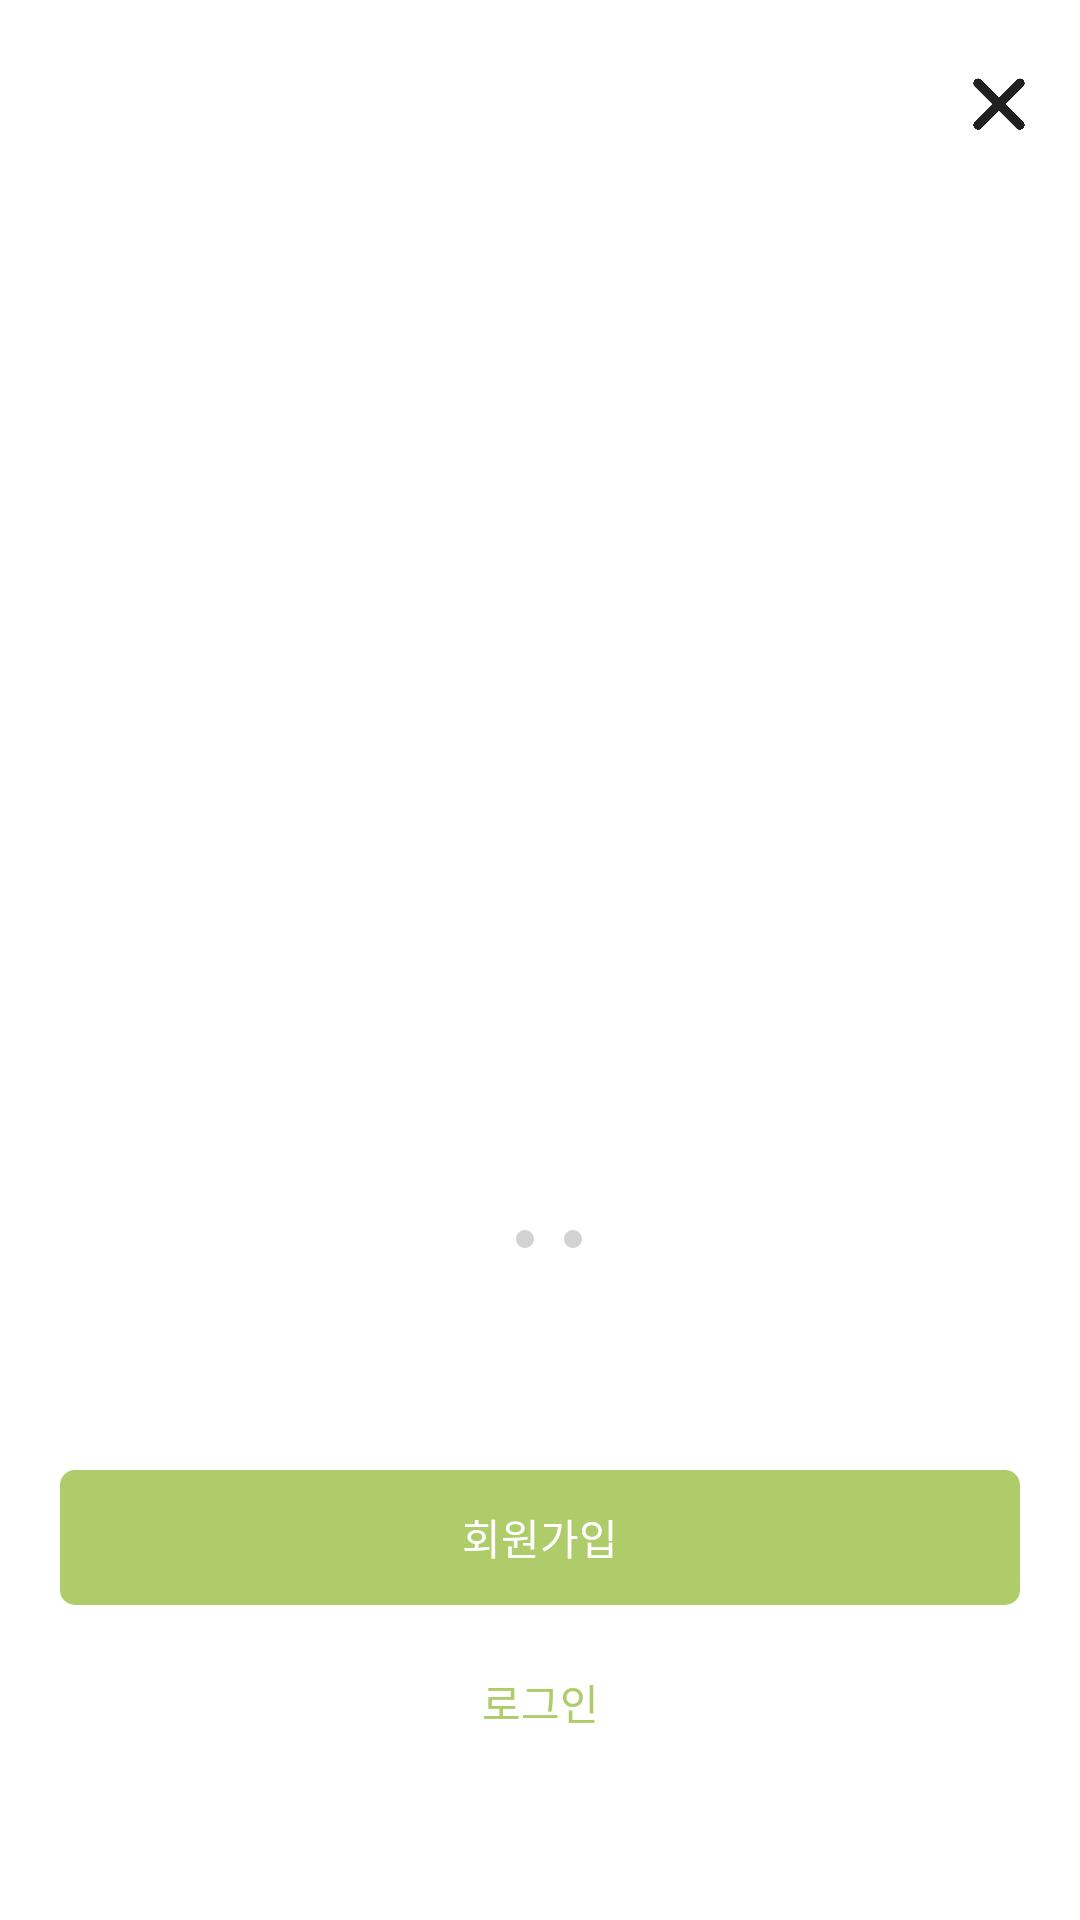

Icons on this 1080w x 1920h Android screen, each with the point to tap as (x=x, y=y):
close: (x=999, y=104)
